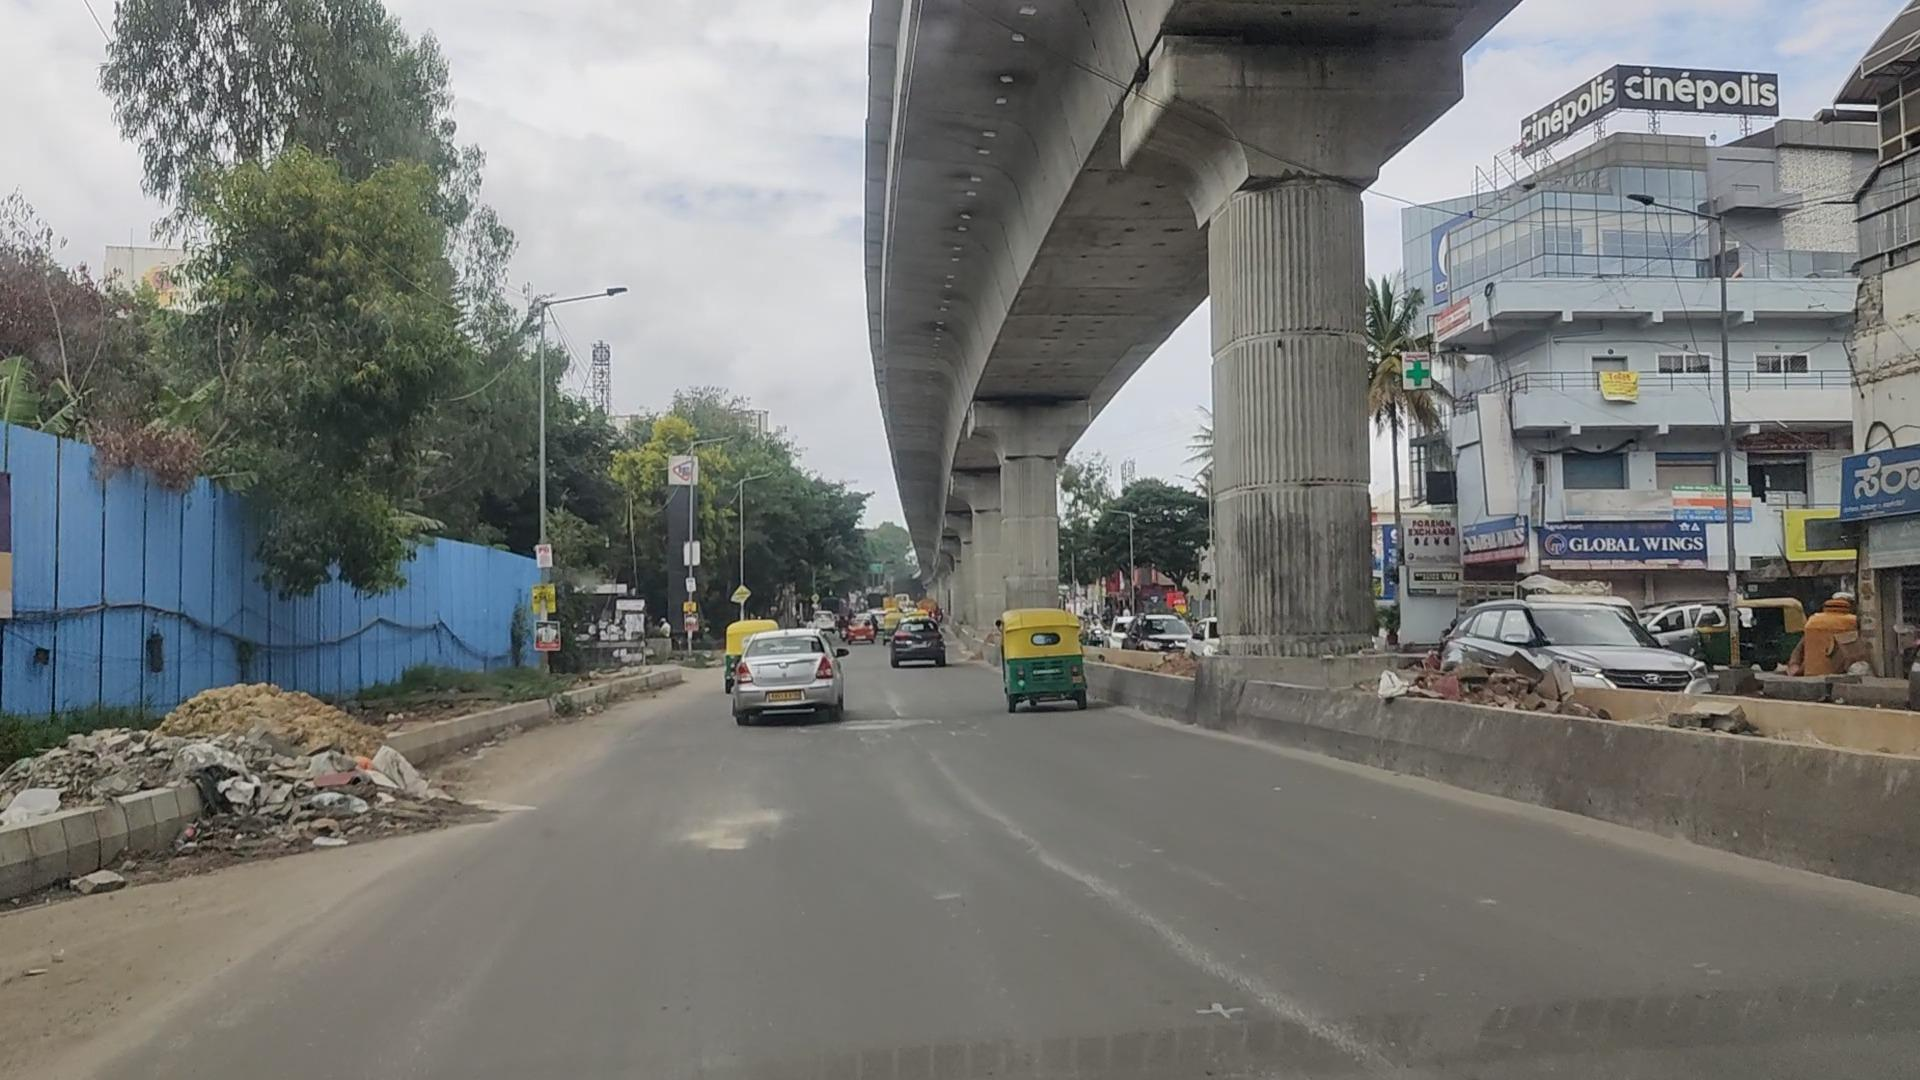LMV: (732, 625, 847, 729), (997, 608, 1092, 719)
